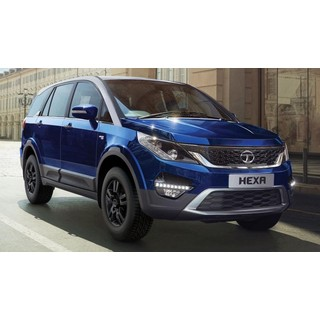car: (17, 78, 297, 245)
